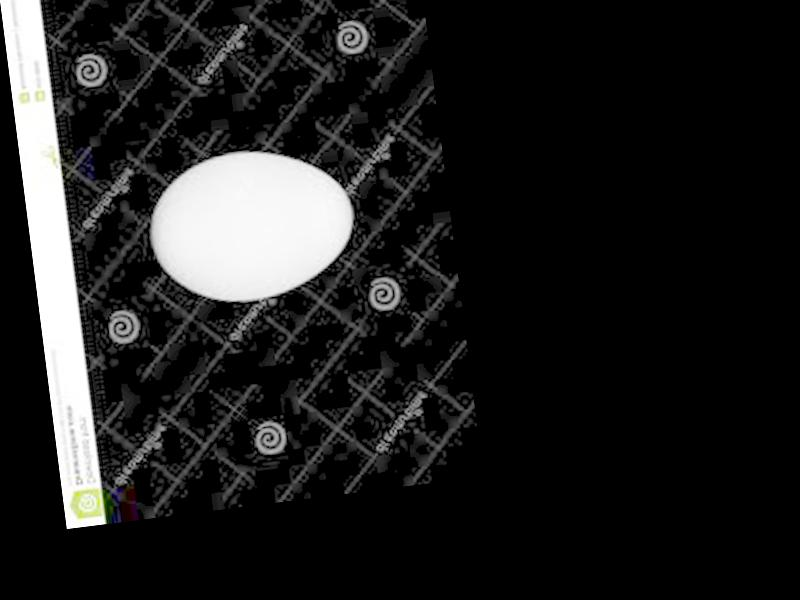Eggs: (142, 136, 360, 309)
